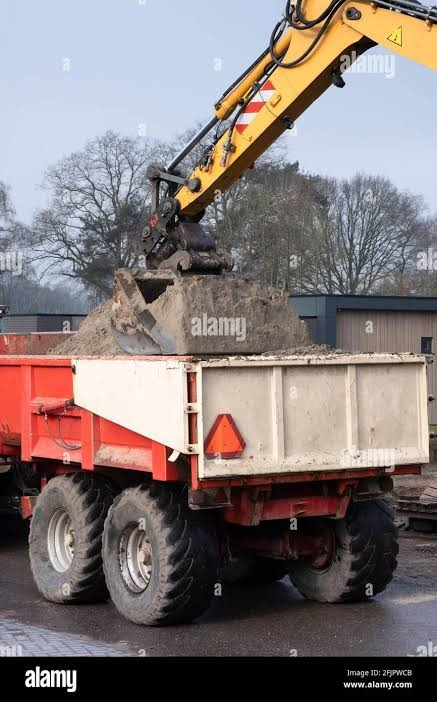excavator: (86, 29, 422, 348)
